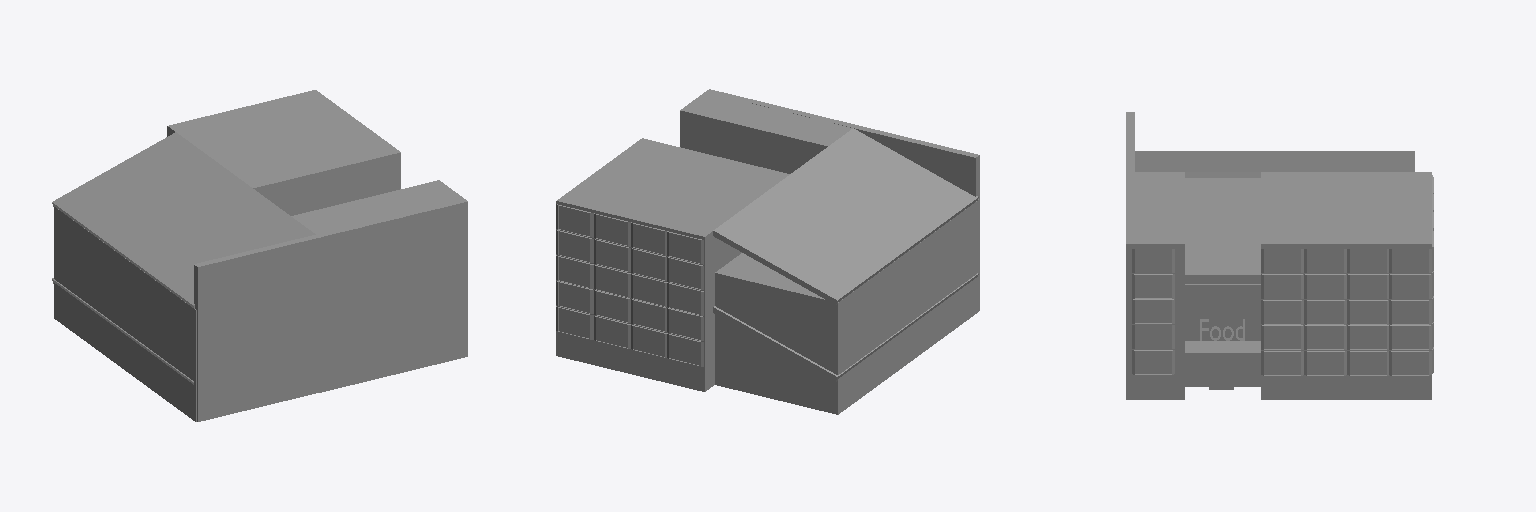
File: food.obj
3 renders of one model, left to right at view 1: azimuth 30°, elevation 25°; view 2: azimuth 150°, elevation 25°; view 3: azimuth 270°, elevation 25°, orthographic.
Bounding box in the file's own units: 5.93 × 3.22 × 5.76.